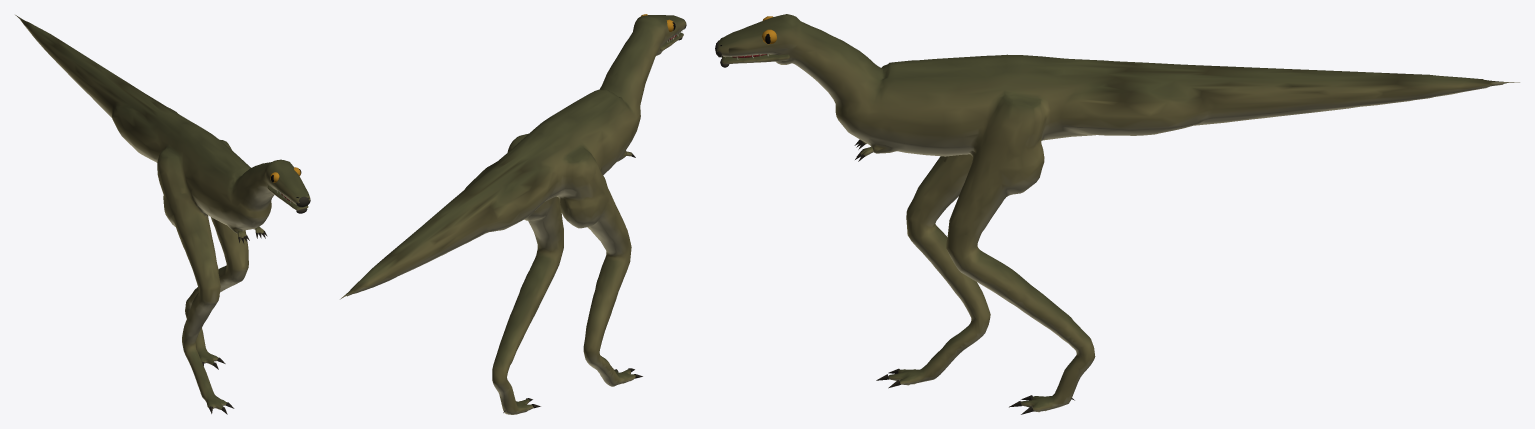
The model's file is Lesothosaurus.fbx.
3 views of the same model, side by side, from view 1: azimuth 30°, elevation 25°; view 2: azimuth 150°, elevation 25°; view 3: azimuth 270°, elevation 25° (orthographic). The views are drawn at different scales.
Parts seen in each view (by area): view 1: Lesothosaurus; view 2: Lesothosaurus; view 3: Lesothosaurus.
Boxes of the visible parts, bbox=[...] form: Lesothosaurus: bbox=[15, 15, 310, 414]; Lesothosaurus: bbox=[340, 14, 686, 414]; Lesothosaurus: bbox=[715, 14, 1519, 414].
Bounding box in the file's own units: 0.3662 × 1.31 × 2.53.
